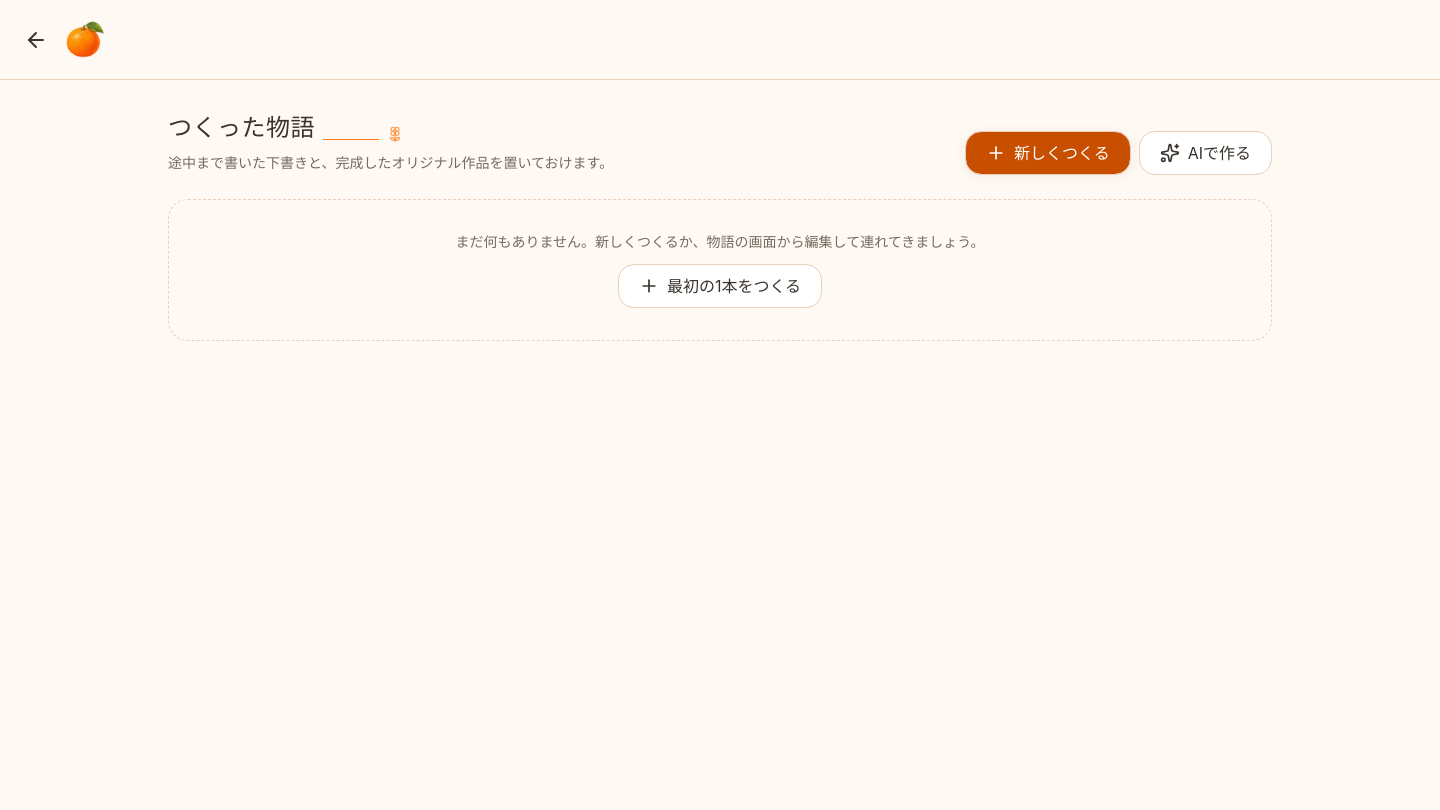
Test: PackAuthoringScreen › AIで作るダイアログを開き、結果なしでは適用できない
The width and height of the screenshot is (1440, 810).
Click the button "AIで作る". click: (1205, 153)
box: [1139,131,1272,175]
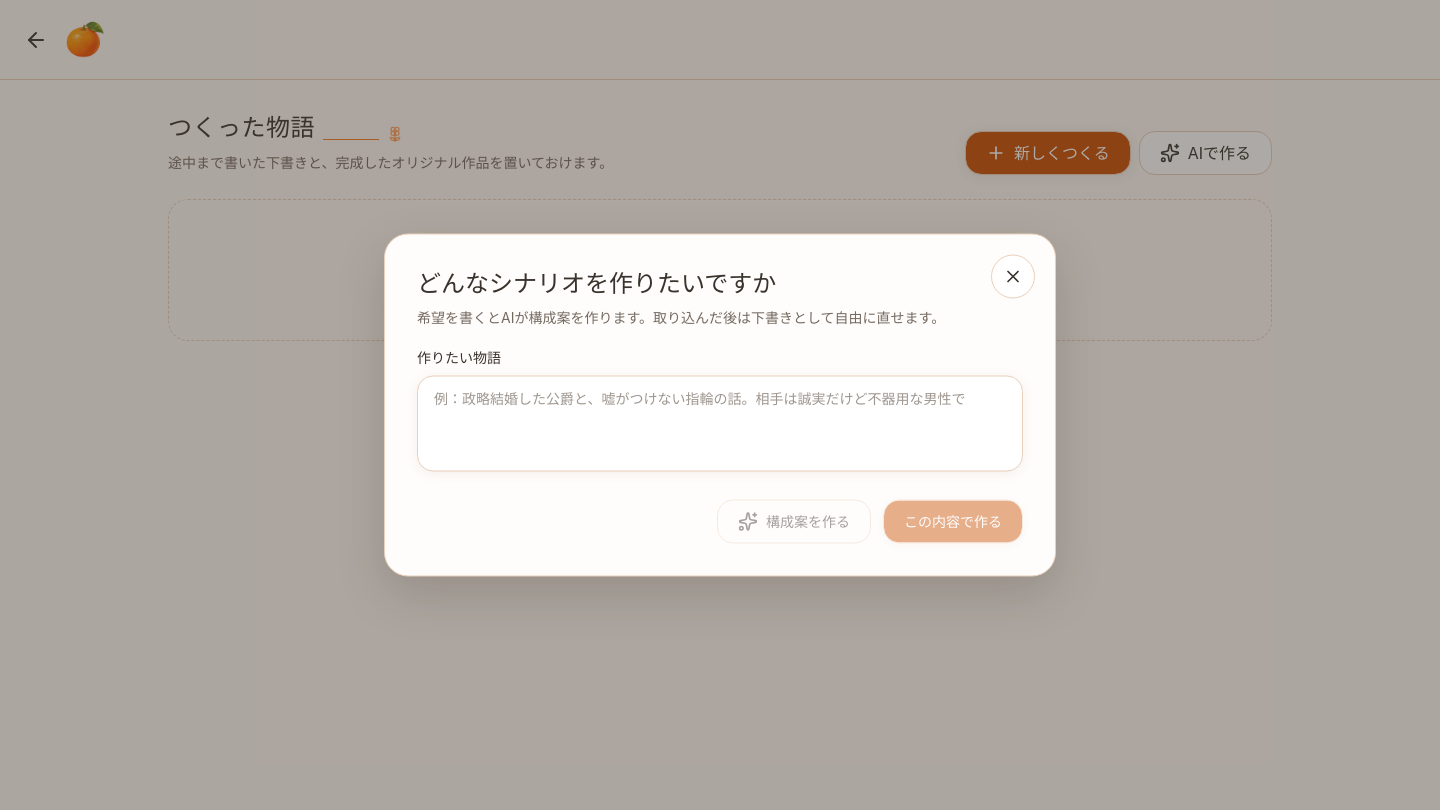
Result: the dialog "どんなシナリオを作りたいですか" is shown at [384,234,1056,576]
Result: the button "この内容で作る" is disabled at [883,500,1023,544]
Type "政略結婚の話" into the text box labelled "作りたい物語". click: (720, 424)
box: [417,376,1023,472]
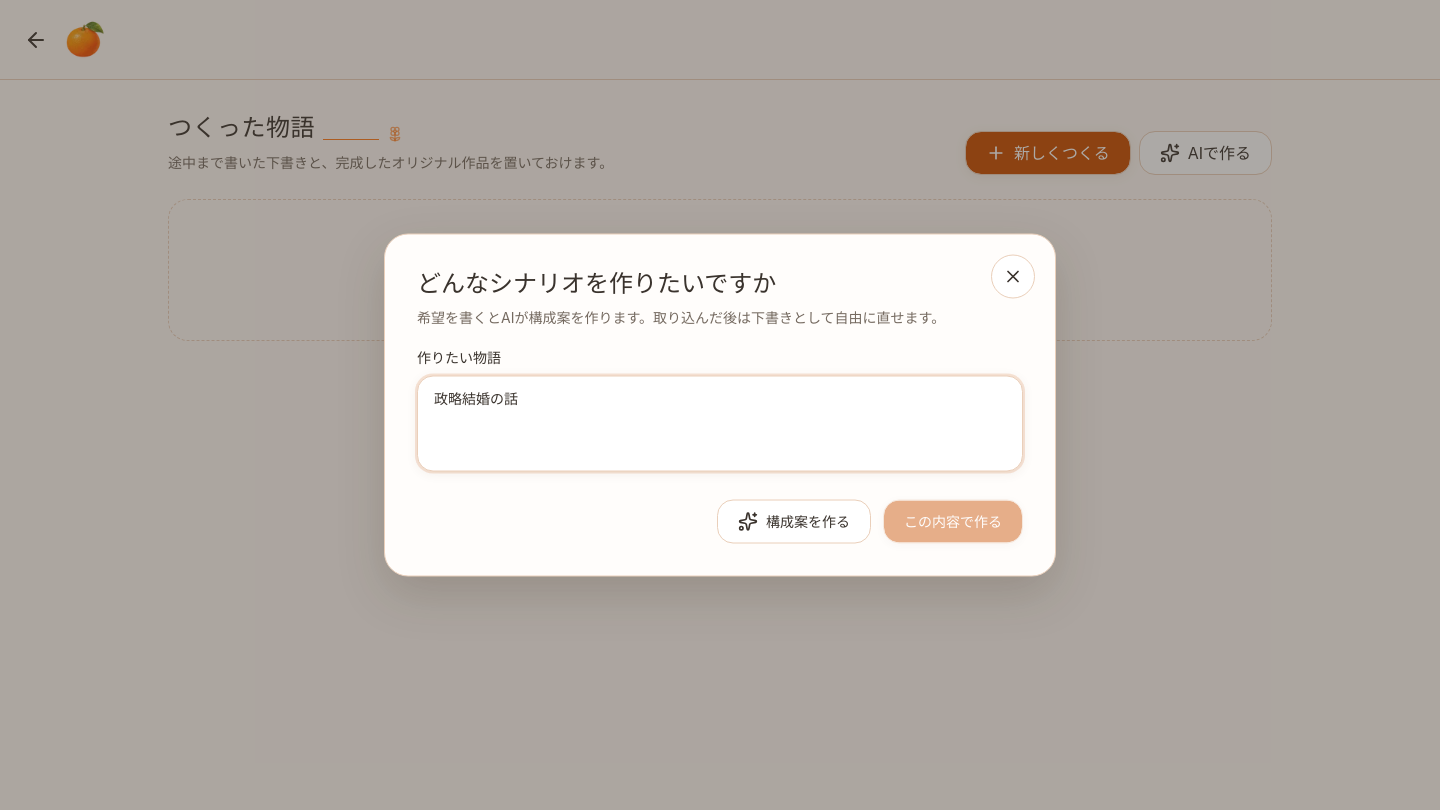
Result: the button "構成案を作る" is enabled at [717,500,871,544]
